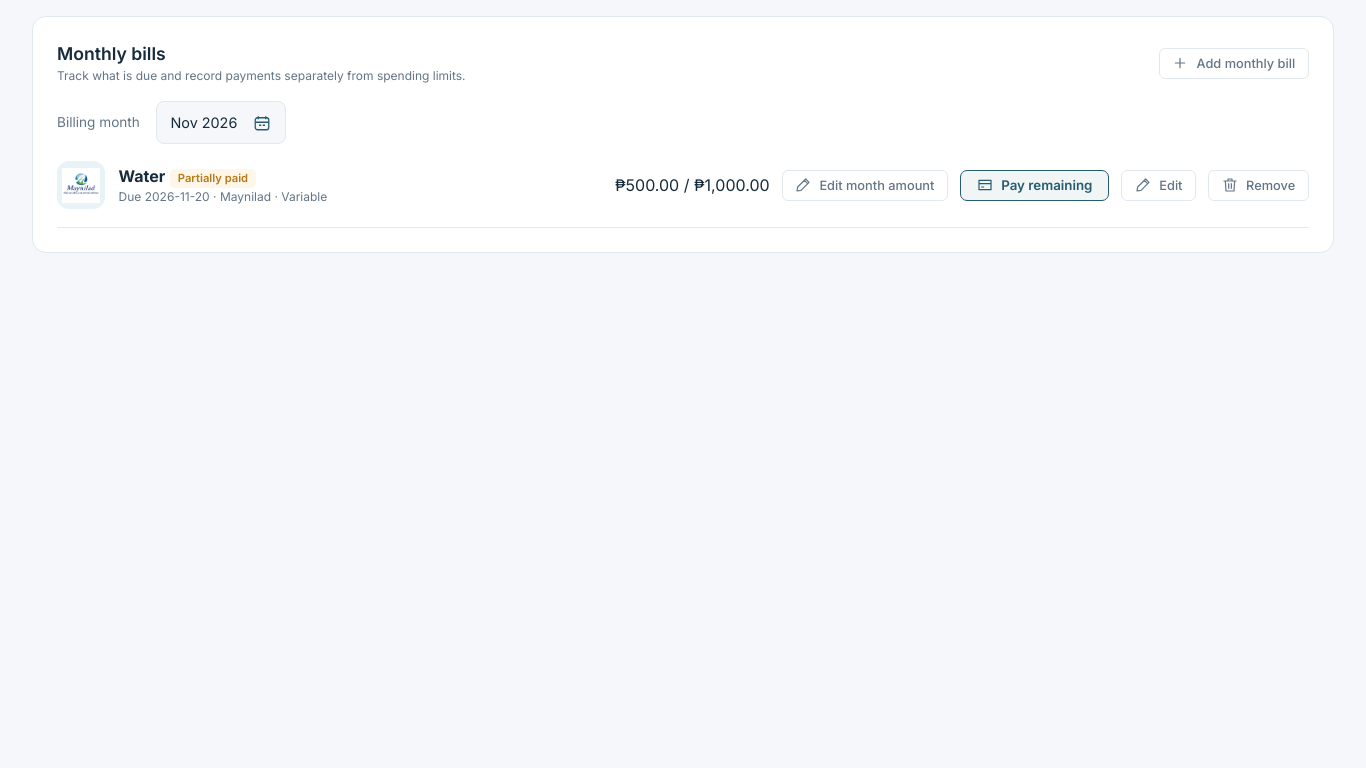
Test: blocks lowering a monthly amount below recorded payments
This screenshot has width=1366, height=768.
Click the button "Edit month amount" at (865, 185), box [782, 170, 948, 201]
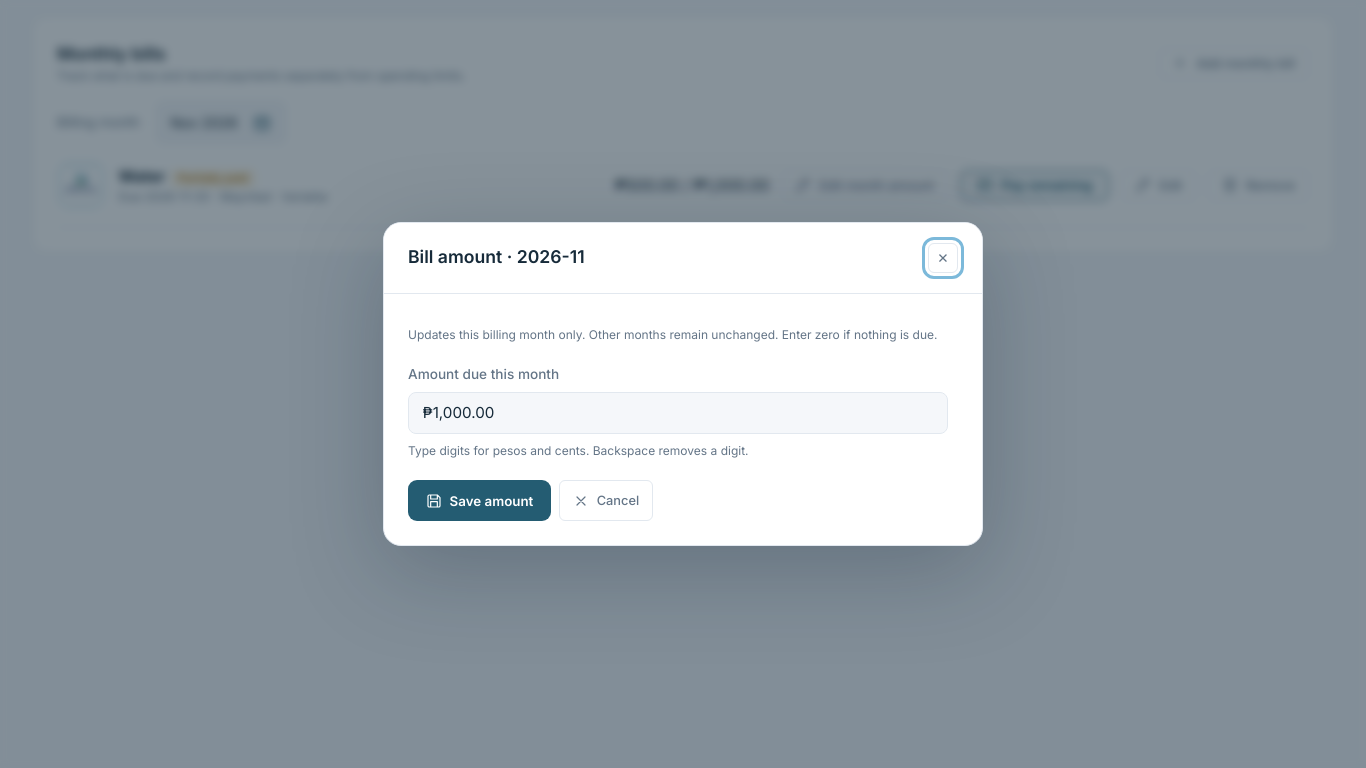
Press Delete in the field labelled "Amount due this month", box [408, 392, 948, 434]
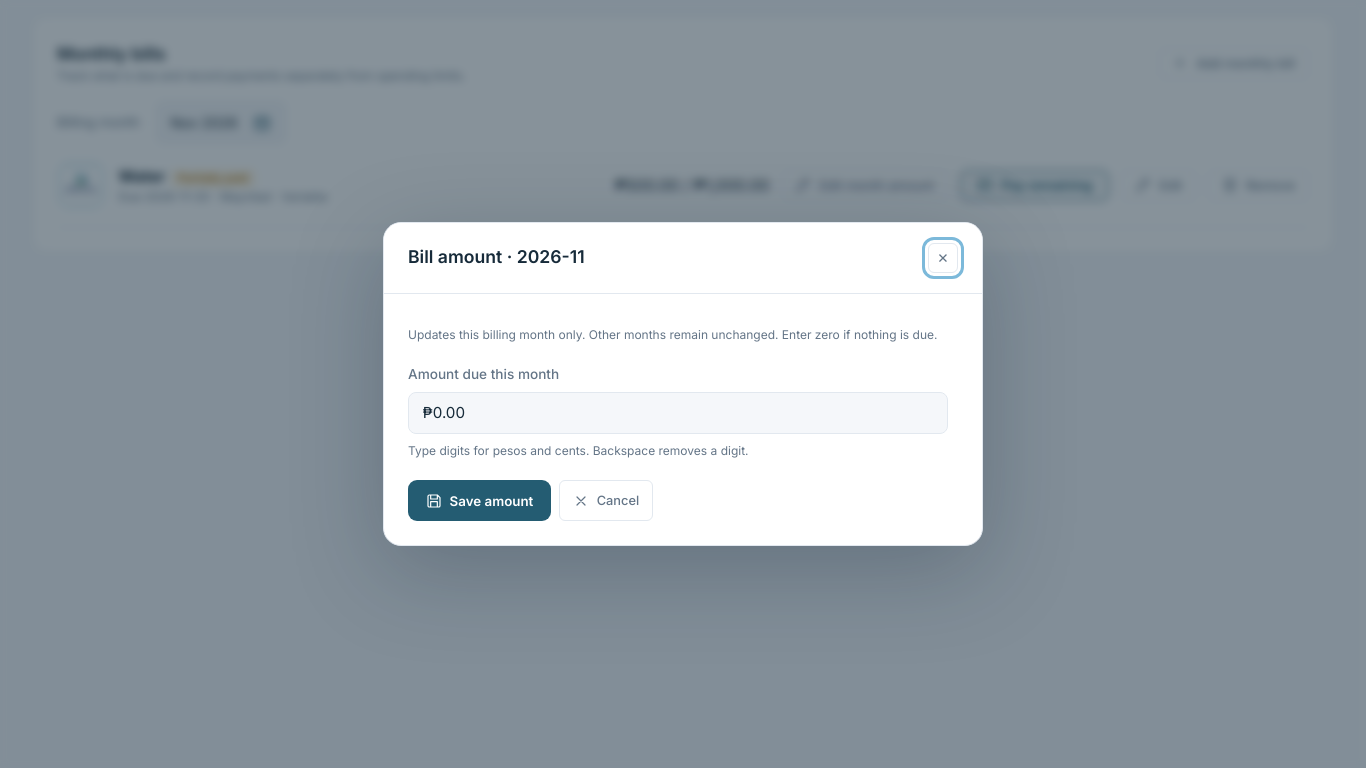
Click the button "Save amount" at (479, 501), box [408, 480, 551, 522]
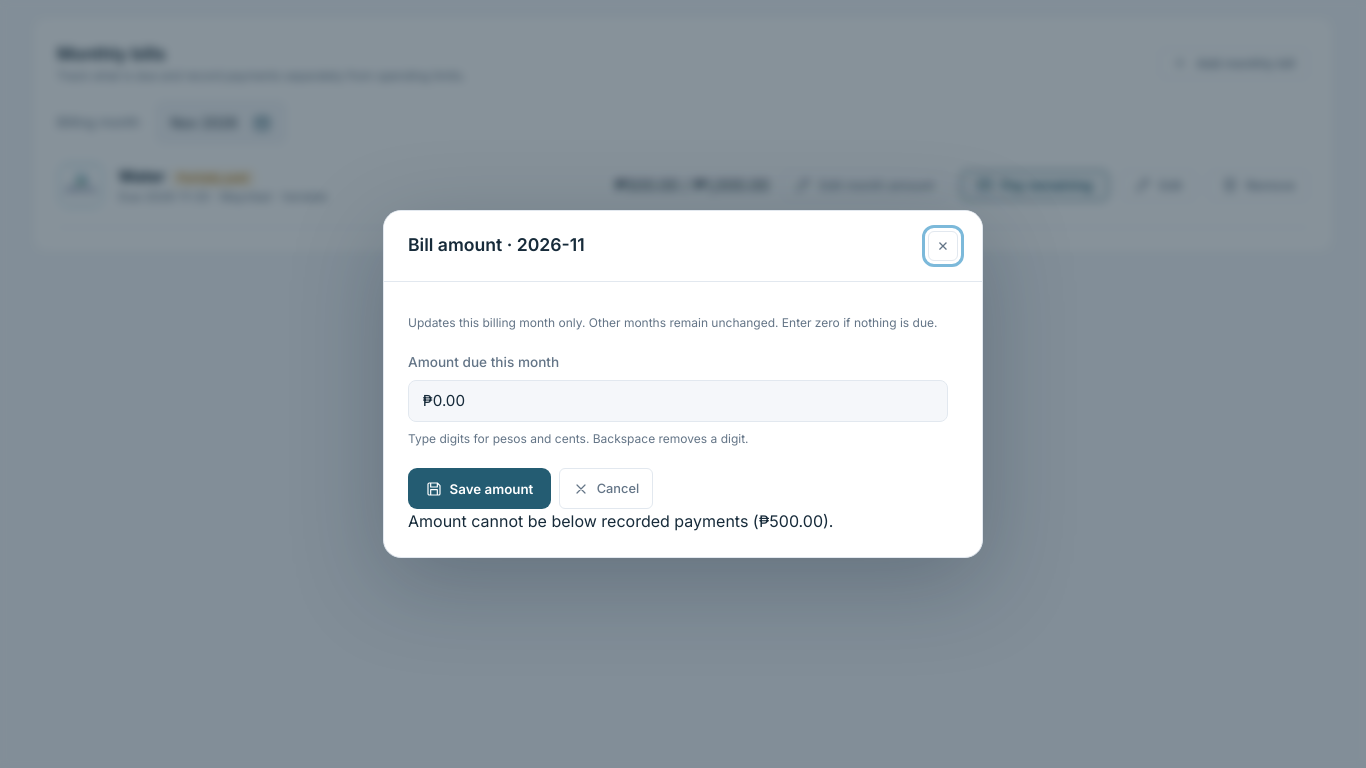
Result: the message shows "below recorded payments" at [408, 512, 833, 532]
